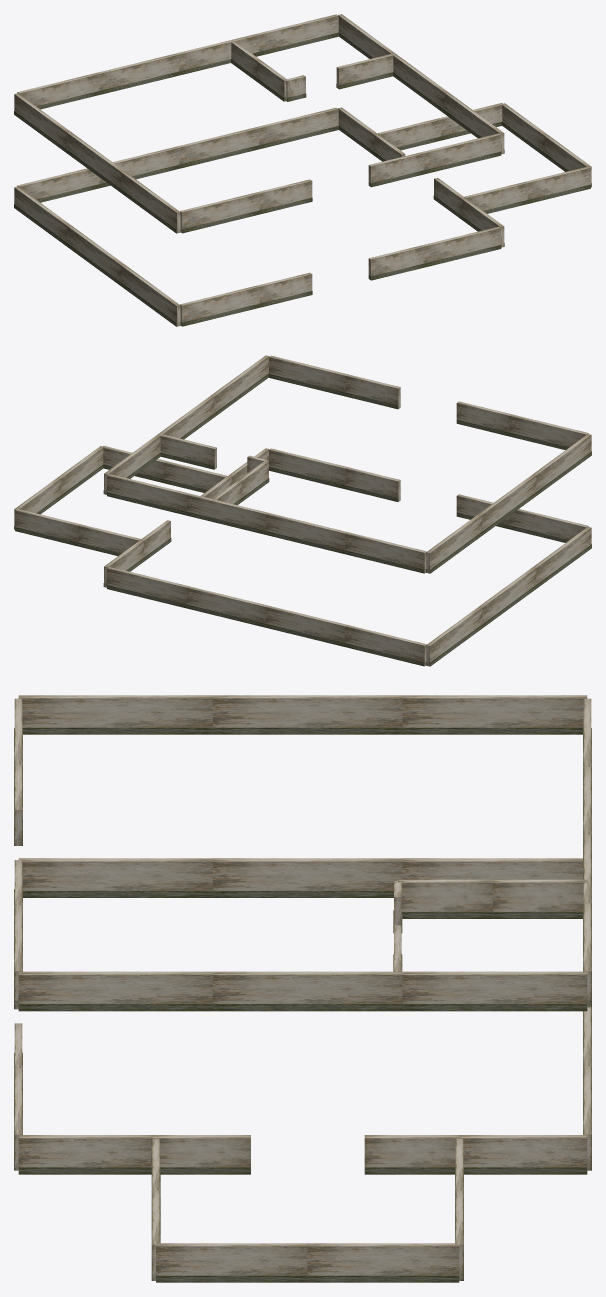
File: tea_walls.glb
3 renders of one model, top to bottom at view 1: azimuth 30°, elevation 25°; view 2: azimuth 150°, elevation 25°; view 3: azimuth 270°, elevation 25°, orthographic. The views are drawn at different scales.
Visible parts, largest first — view 1: tea_walls0; view 2: tea_walls0; view 3: tea_walls0.
Part boxes in pixels (left/top/right/bottom): tea_walls0: left=14, top=14, right=591, bottom=326; tea_walls0: left=14, top=355, right=591, bottom=666; tea_walls0: left=14, top=695, right=591, bottom=1282.
Bounding box in the file's own units: 19.39 × 4.64 × 12.19.
1 material, 1 textured.
